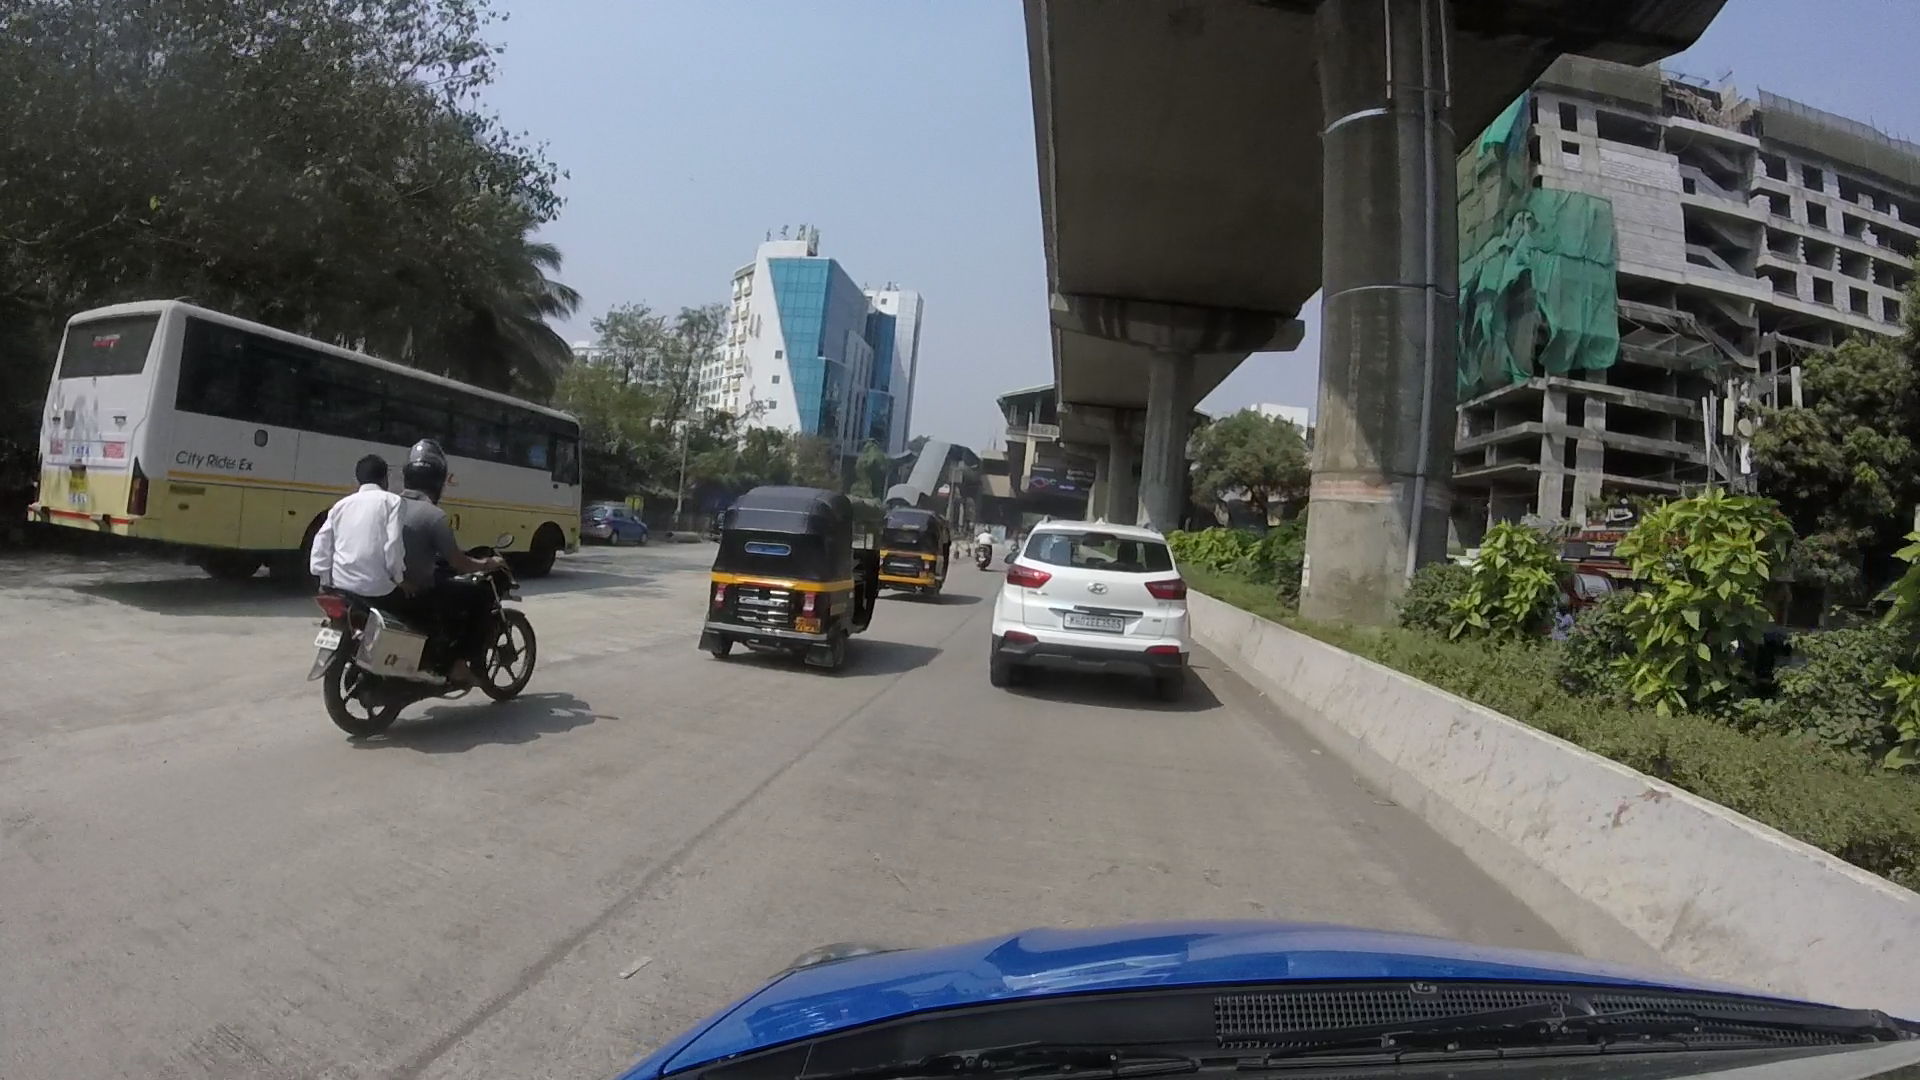bike/scooter: (299, 439, 541, 745)
bus: (55, 298, 587, 580)
car: (981, 498, 1199, 692)
rickshaw: (696, 480, 866, 674), (855, 506, 949, 611)
